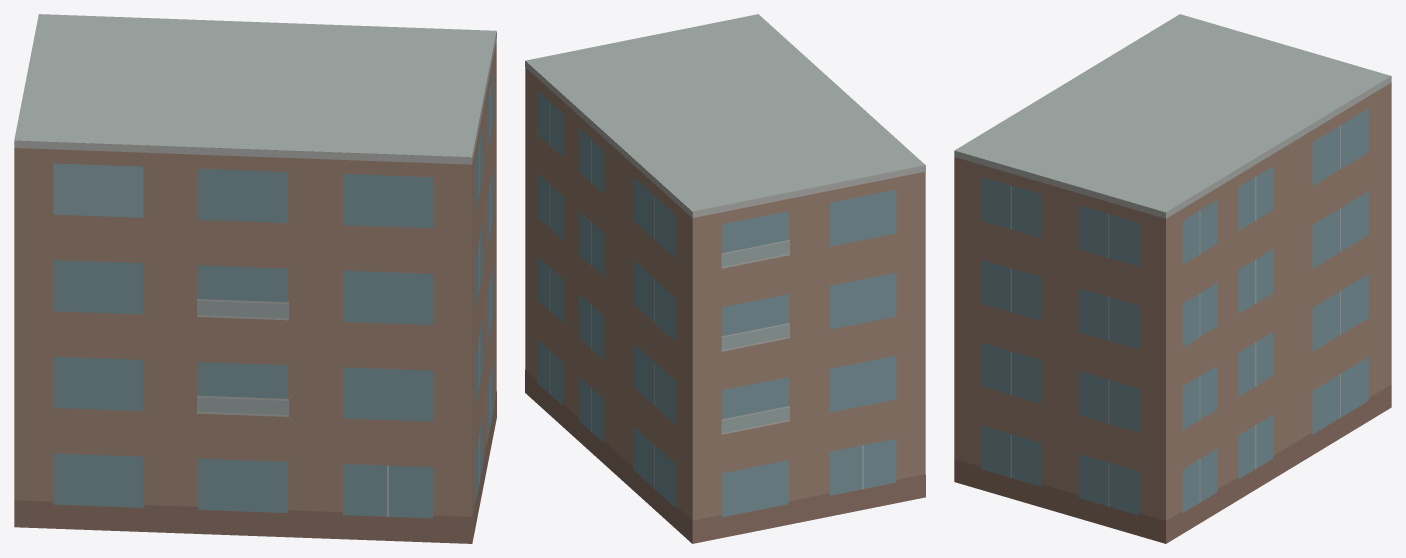
The model's file is survey-upis-32612068.glb.
3 views of the same model, side by side, from view 1: azimuth 30°, elevation 25°; view 2: azimuth 150°, elevation 25°; view 3: azimuth 270°, elevation 25° (orthographic). The views are drawn at different scales.
Visible parts, largest first — view 1: survey-upis-32612068.tmp; view 2: survey-upis-32612068.tmp; view 3: survey-upis-32612068.tmp.
Part boxes in pixels (<box>): survey-upis-32612068.tmp: <box>14,14,496,543</box>; survey-upis-32612068.tmp: <box>525,14,925,543</box>; survey-upis-32612068.tmp: <box>954,14,1391,543</box>.
Bounding box in the file's own units: 16.32 × 12.7 × 15.19.
